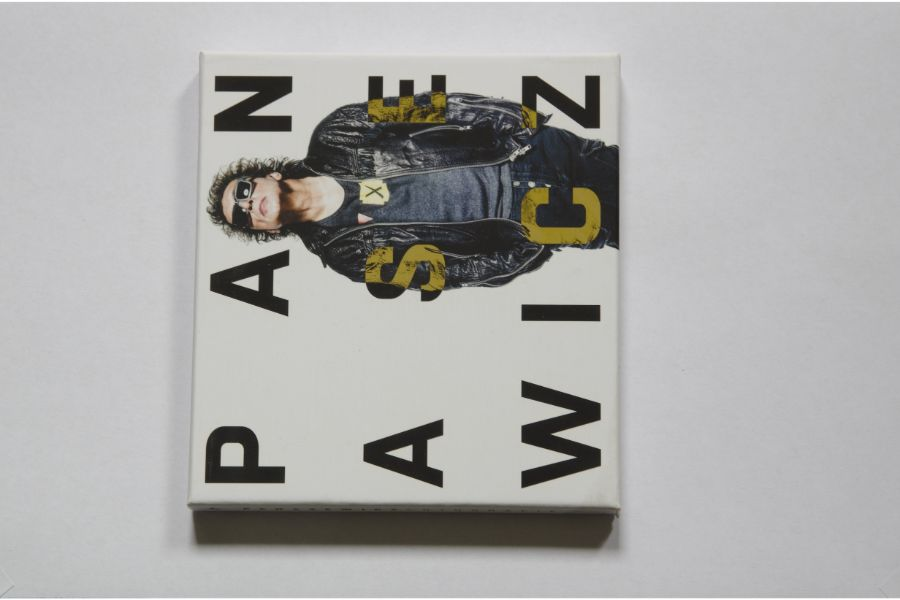album: (185, 51, 627, 515)
